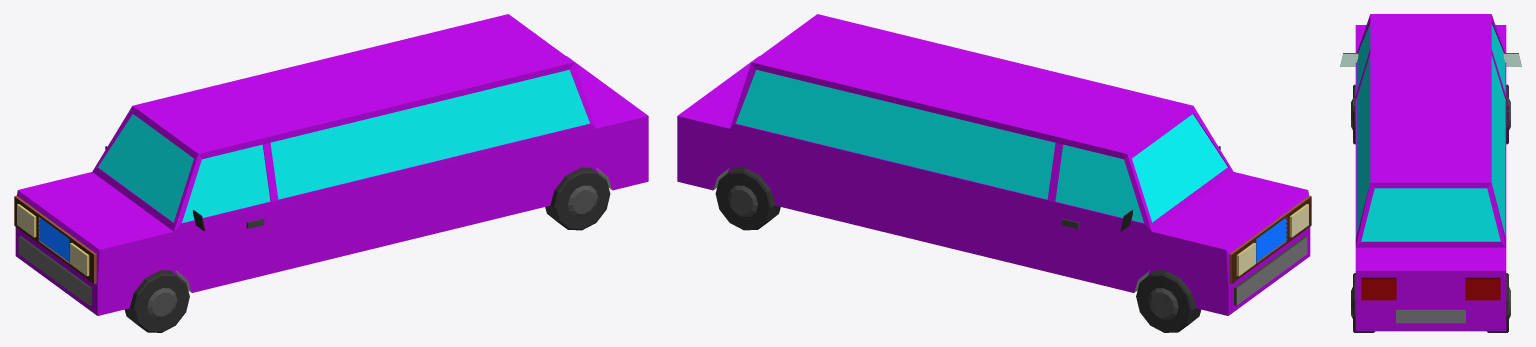
The model's file is Limousine.glb.
The picture shows the model from 3 angles, left to right: view 1: azimuth 30°, elevation 25°; view 2: azimuth 150°, elevation 25°; view 3: azimuth 270°, elevation 25°; orthographic projection. The views are drawn at different scales.
Visible parts, largest first — view 1: Limousine; view 2: Limousine; view 3: Limousine.
Boxes of the visible parts, x1=… form: Limousine: x1=14, y1=14, x2=648, y2=332; Limousine: x1=677, y1=14, x2=1311, y2=332; Limousine: x1=1340, y1=14, x2=1521, y2=332.
Bounding box in the file's own units: 5.92 × 1.63 × 1.81.
Materials: 1 (1 with a texture image).
